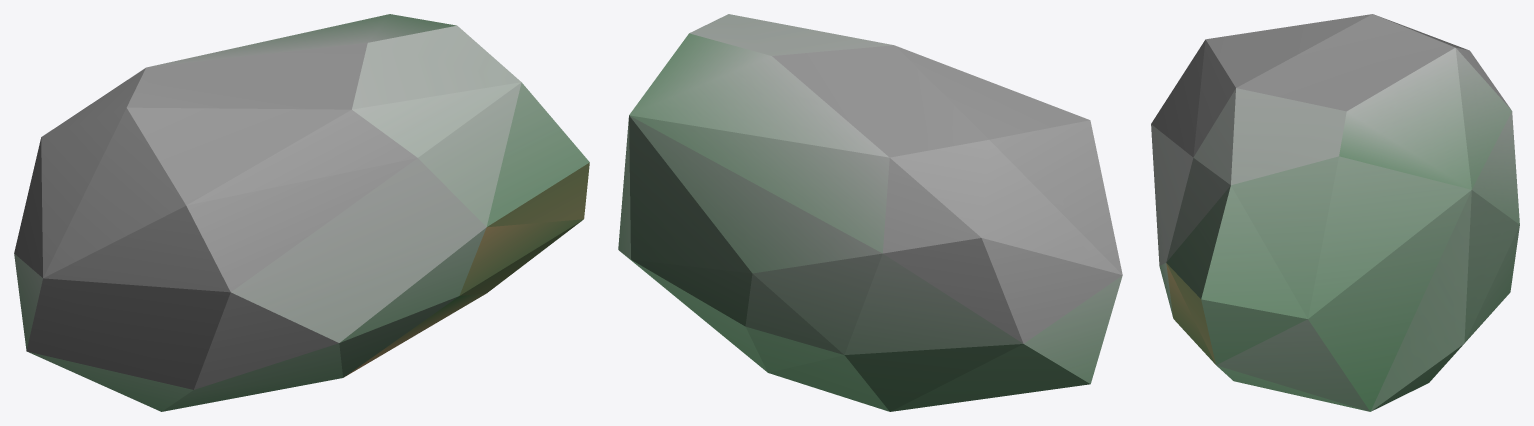
Rendered from rock_big_oval_mossy.fbx.
The picture shows the model from 3 angles, left to right: view 1: azimuth 30°, elevation 25°; view 2: azimuth 150°, elevation 25°; view 3: azimuth 270°, elevation 25°; orthographic projection. The views are drawn at different scales.
Visible parts, largest first — view 1: rock_big.oval_mossy; view 2: rock_big.oval_mossy; view 3: rock_big.oval_mossy.
Part boxes in pixels (left/top/right/bottom): rock_big.oval_mossy: left=14, top=14, right=589, bottom=411; rock_big.oval_mossy: left=618, top=14, right=1122, bottom=411; rock_big.oval_mossy: left=1151, top=14, right=1519, bottom=411.
Size of the model in its own units: 2.5 by 1.34 by 1.55.
1 material, 1 textured.
